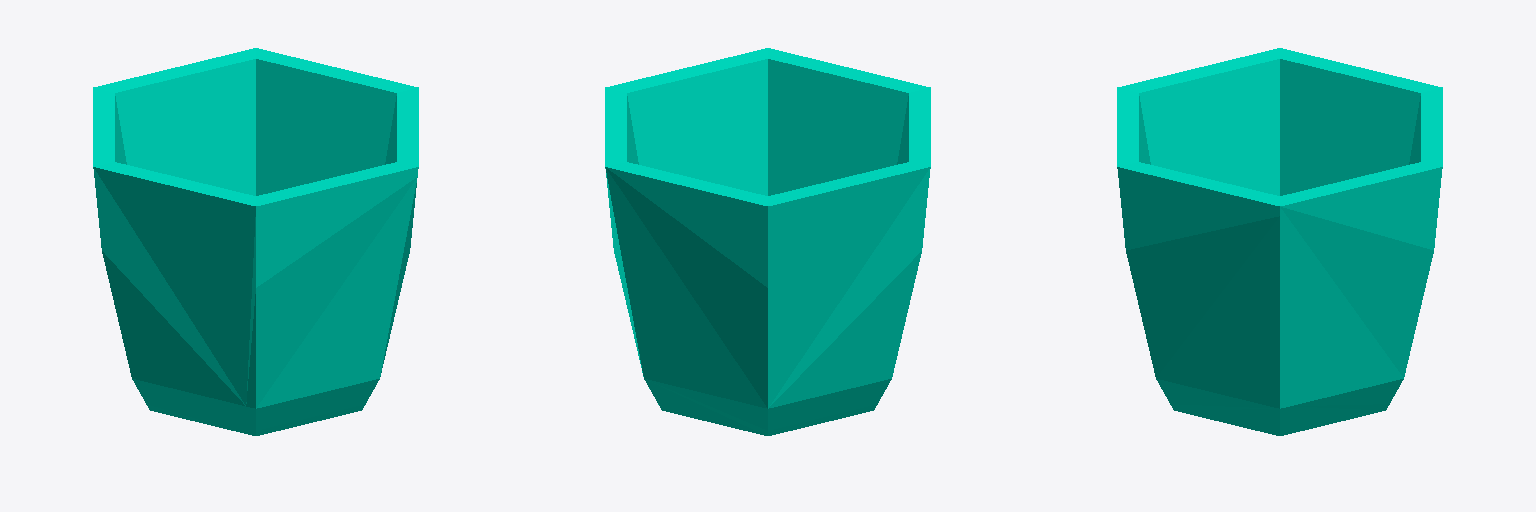
Rendered from pot.obj.
The picture shows the model from 3 angles: view 1: azimuth 30°, elevation 25°; view 2: azimuth 150°, elevation 25°; view 3: azimuth 270°, elevation 25°; orthographic projection.
Parts seen in each view (by area): view 1: pot_low; view 2: pot_low; view 3: pot_low.
Part boxes in pixels (bbox=[...]): pot_low: bbox=[93, 48, 418, 435]; pot_low: bbox=[605, 48, 930, 435]; pot_low: bbox=[1117, 48, 1442, 435].
Size of the model in its own units: 2.69 by 2.03 by 2.33.